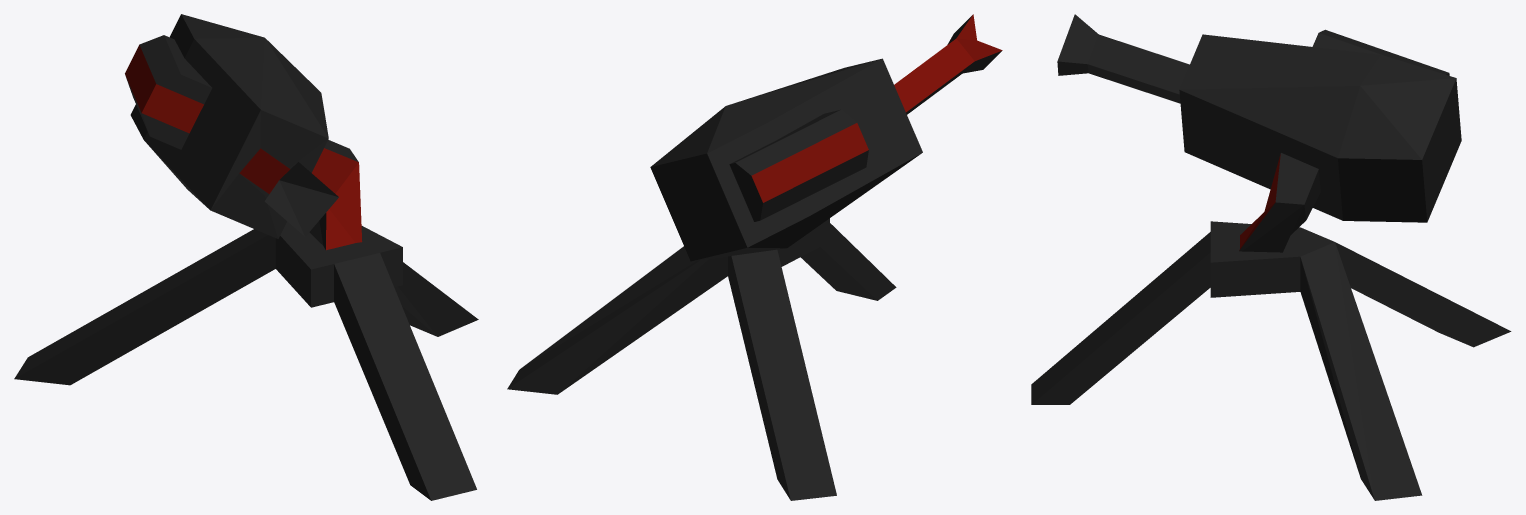
File: turret_broken_v1.fbx
The picture shows the model from 3 angles, left to right: view 1: azimuth 30°, elevation 25°; view 2: azimuth 150°, elevation 25°; view 3: azimuth 270°, elevation 25°; orthographic projection. The views are drawn at different scales.
Visible parts, largest first — view 1: Cube.001; view 2: Cube.001; view 3: Cube.001.
Part boxes in pixels (x1,y1,x2,y2): Cube.001: [14, 14, 478, 500]; Cube.001: [507, 14, 1002, 500]; Cube.001: [1031, 14, 1511, 500].
Bounding box in the file's own units: 471 × 397 × 519.
